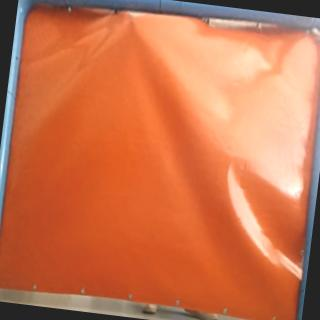Hit-hRxx: (125, 14, 145, 30)
